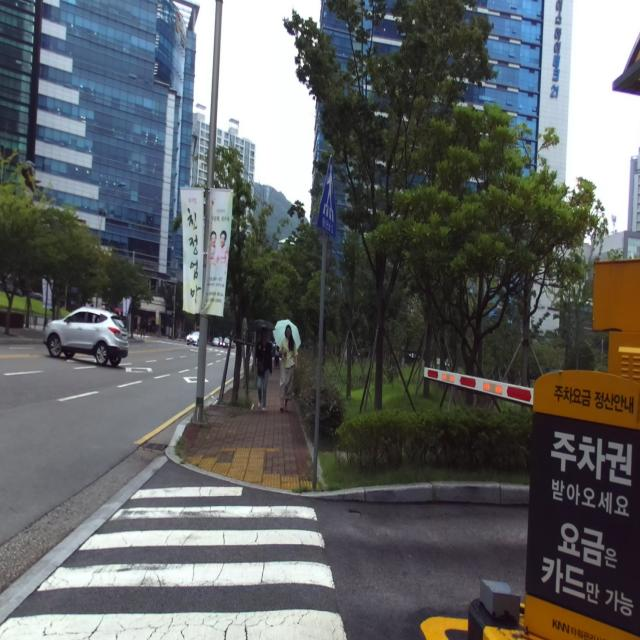횡단보도: (0, 486, 346, 640)
